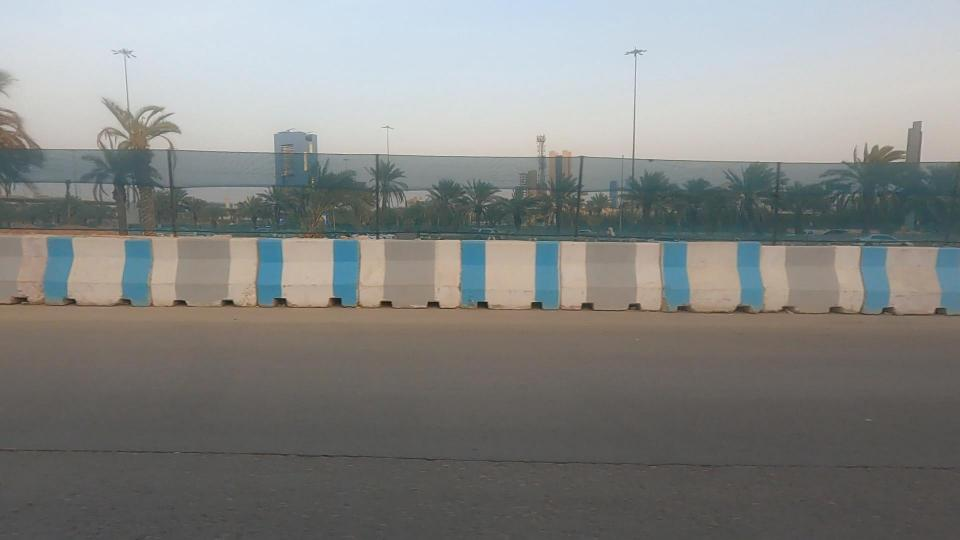CONSTRUCTION_ROAD: (0, 113, 427, 388), (555, 123, 960, 382), (280, 134, 694, 376)
